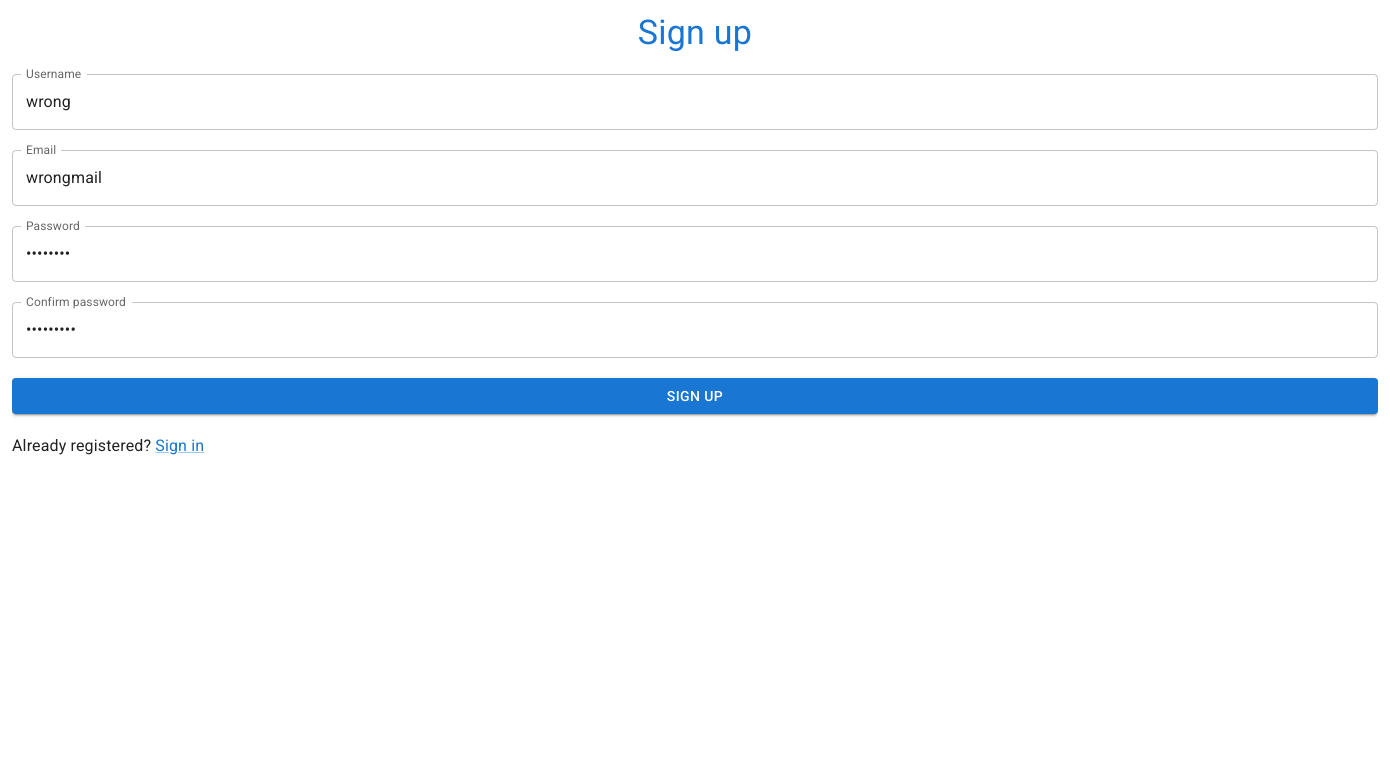
register form › should display errors when submitting form with invalid data
The width and height of the screenshot is (1390, 780).
What coordinates should you click on to do the following:
click the button "Sign up"
I would click on:
 (695, 396)
Its box is [12, 378, 1378, 414].
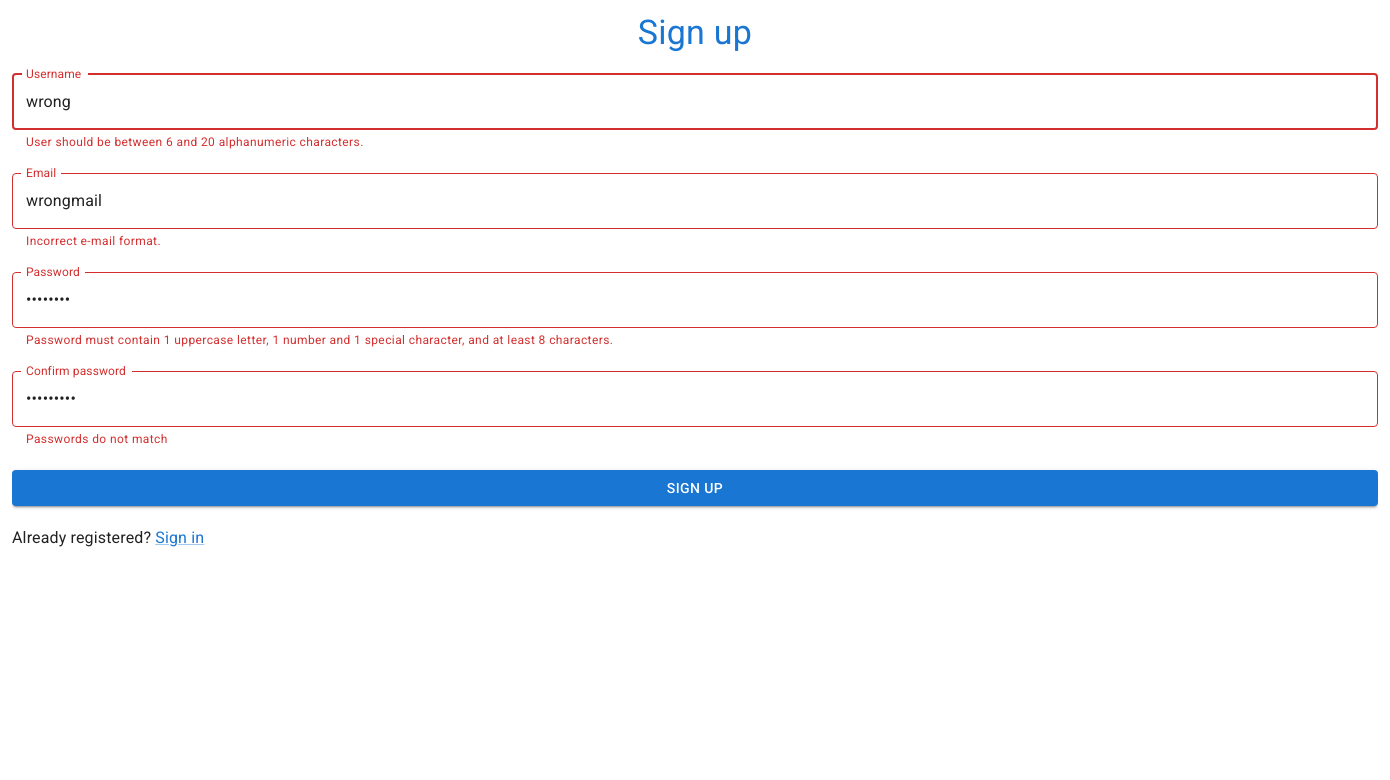
Expected: the text "User should be between 6 and 20 alphanumeric characters." is shown, [26, 135, 364, 149]
Expected: the text "Incorrect e-mail format." is shown, [26, 234, 161, 248]
Expected: the text "password must contain 1 uppercase letter, 1 number and 1 special character, and at least 8 characters." is shown, [26, 333, 613, 347]
